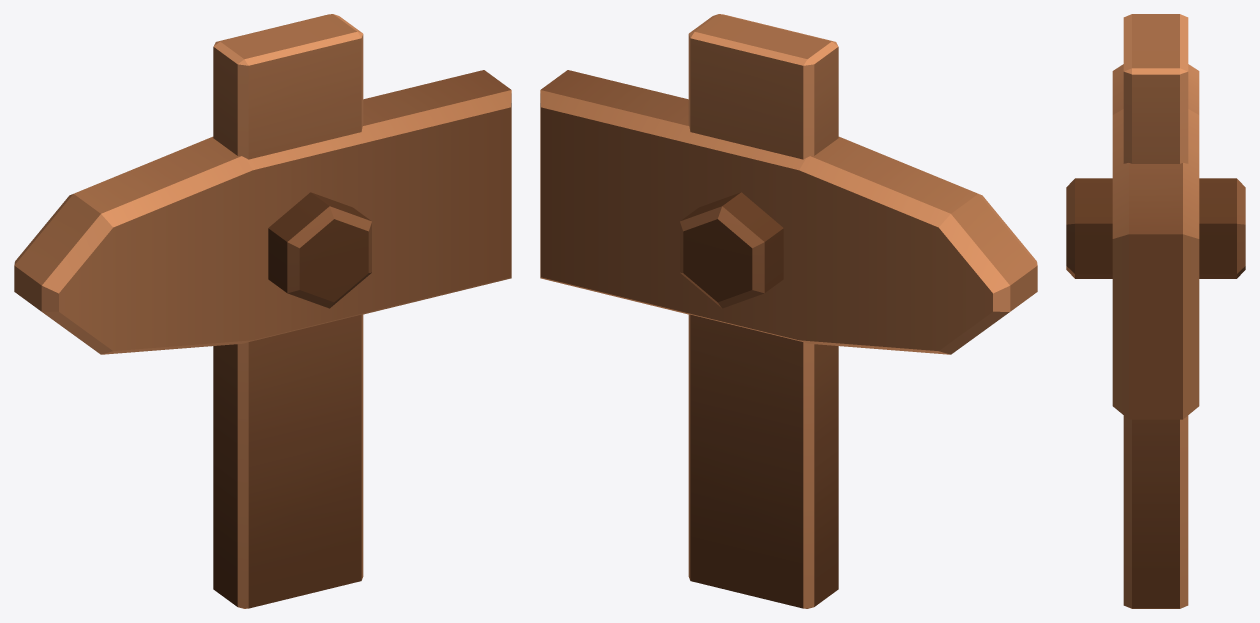
Rendered from mt_prop_sign.fbx.
The picture shows the model from 3 angles, left to right: view 1: azimuth 30°, elevation 25°; view 2: azimuth 150°, elevation 25°; view 3: azimuth 270°, elevation 25°; orthographic projection.
Parts seen in each view (by area): view 1: prop_sign01; view 2: prop_sign01; view 3: prop_sign01.
Boxes of the visible parts, x1,y1,x2,y2 form: prop_sign01: [14, 14, 511, 608]; prop_sign01: [540, 14, 1037, 608]; prop_sign01: [1066, 14, 1245, 608].
Bounding box in the file's own units: 92.52 × 103 × 31.13.
